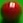red: (0, 0, 23, 23)
